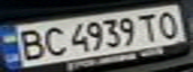3: (103, 16, 124, 48)
4: (66, 20, 90, 54)
9: (118, 15, 142, 46), (84, 19, 106, 52)
B: (12, 27, 48, 62)
C: (39, 24, 69, 57)
O: (151, 8, 184, 39)
T: (136, 10, 163, 42)
